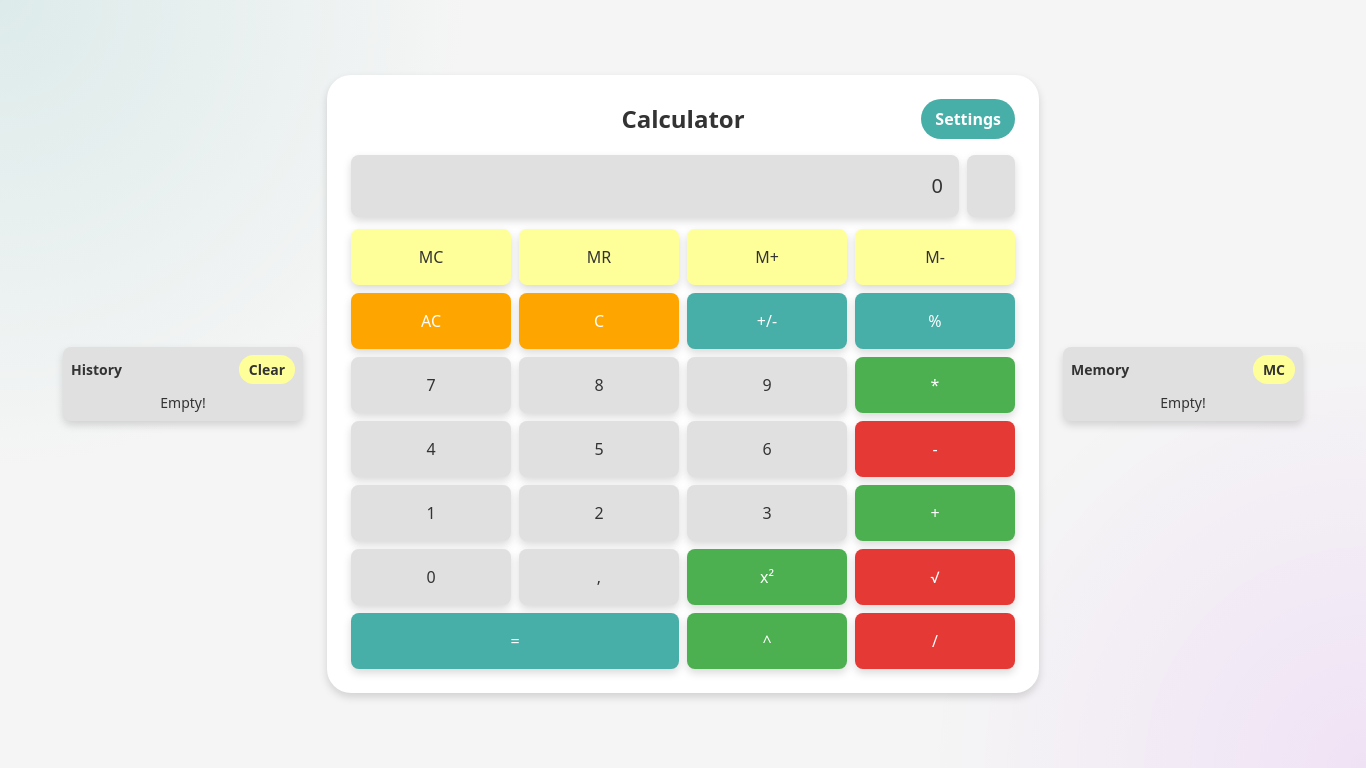
calculator application › completes a binary calculation through the keypad
Step 1. Click the button "2" → (599, 513), box [519, 485, 679, 541]
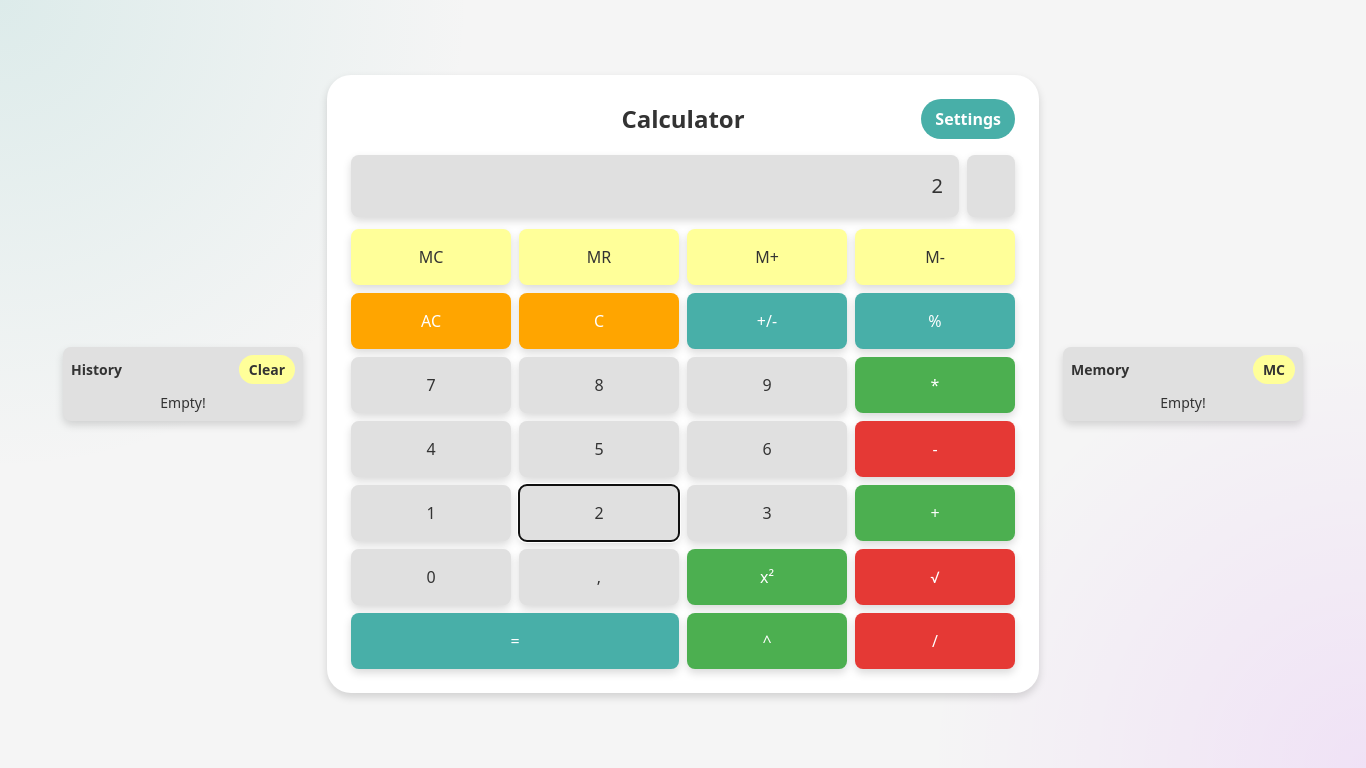
Step 2. Click the button named "Addition" → (935, 513), box [855, 485, 1015, 541]
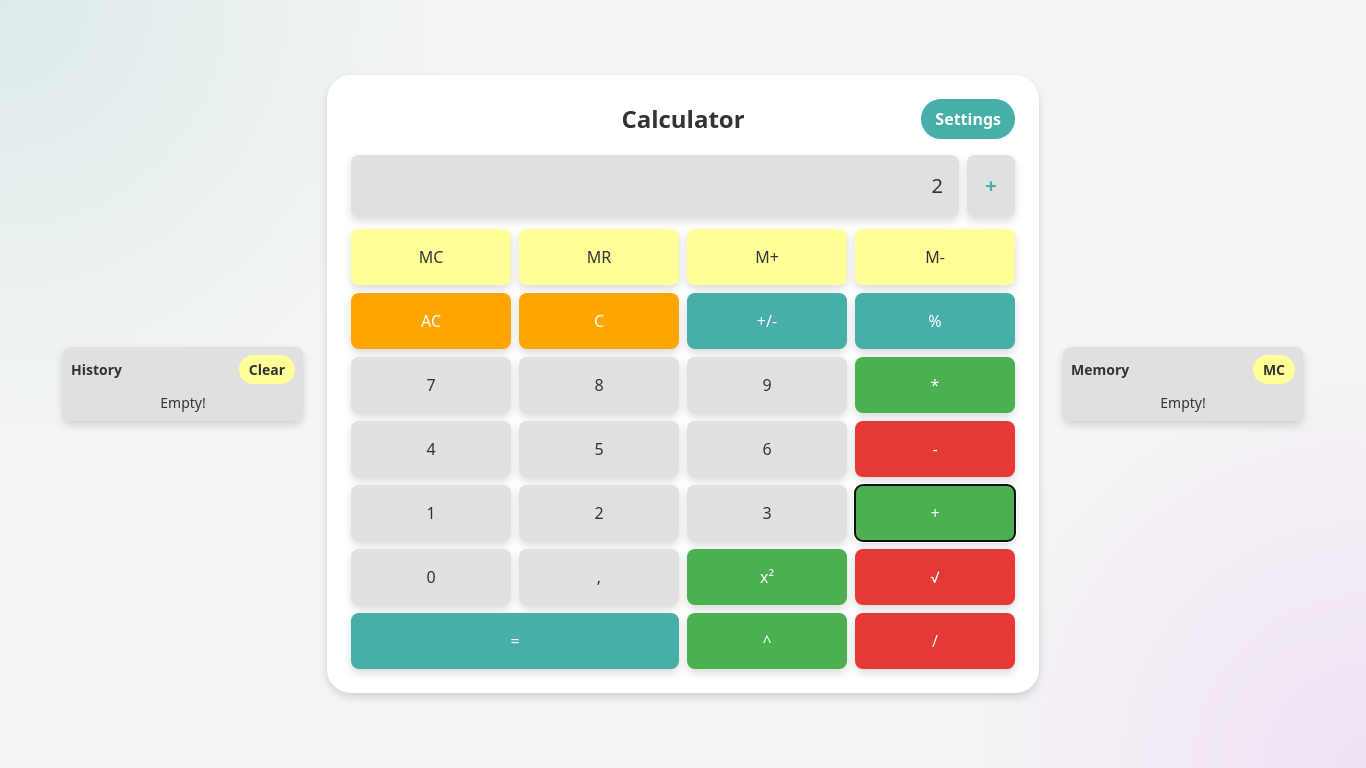
Step 3. Click the button "3" → (767, 513), box [687, 485, 847, 541]
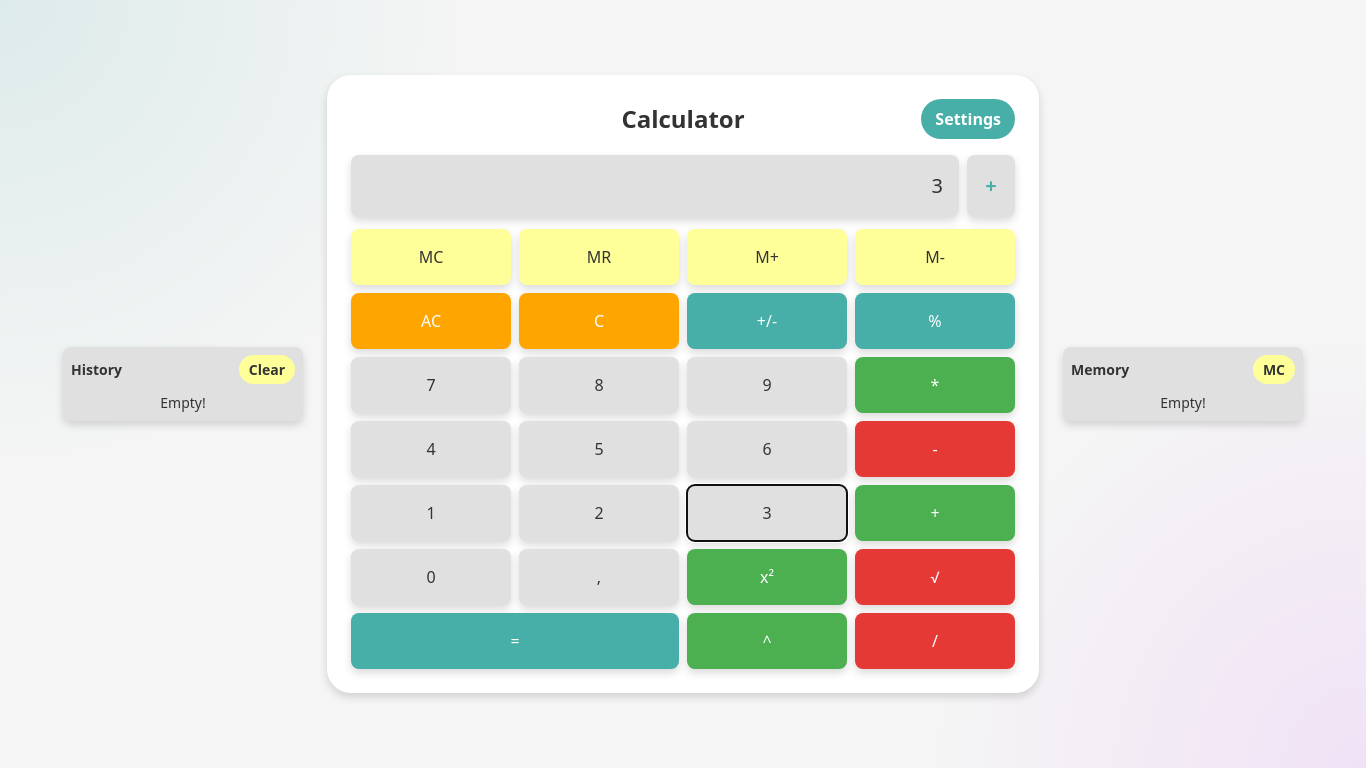
Step 4. Click the button named "Equals" → (515, 641), box [351, 613, 679, 669]
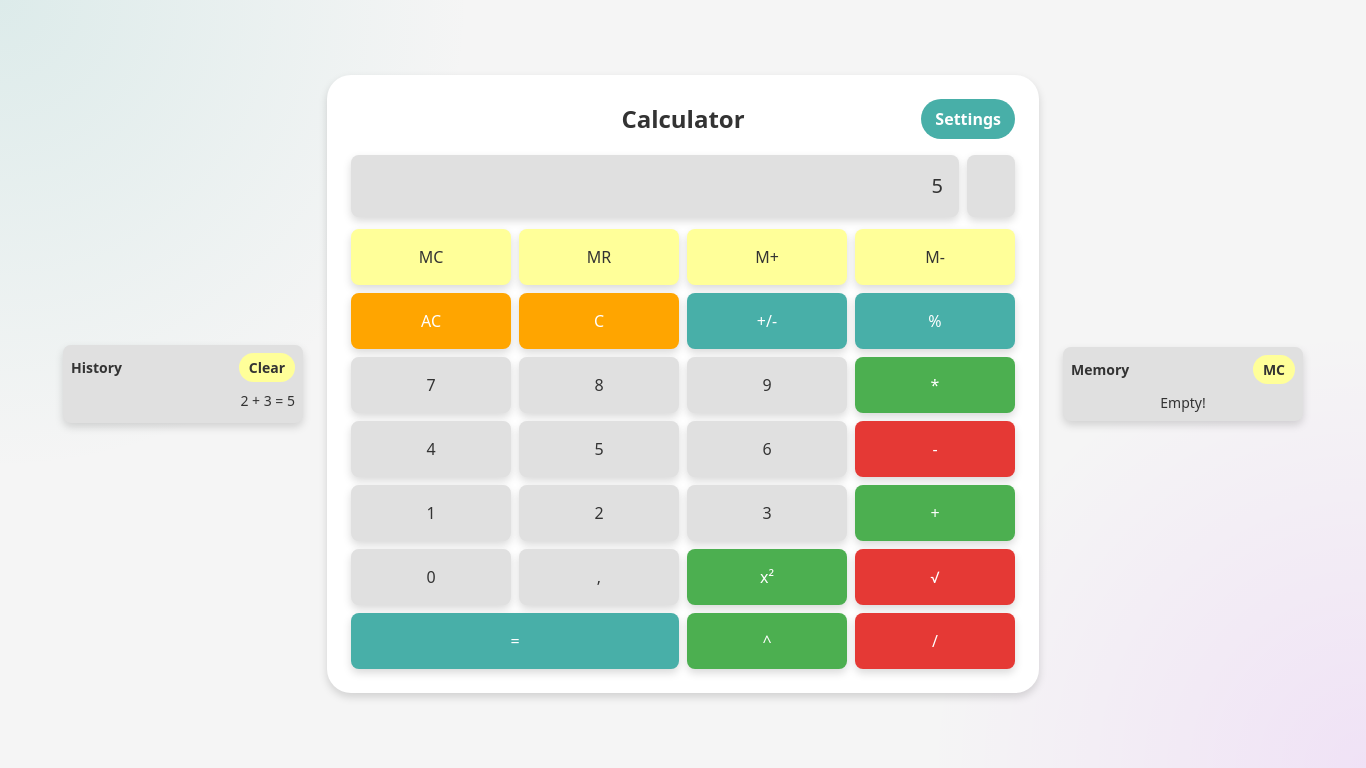
Now the field named "Calculator display" holds "5", box [351, 155, 959, 217]
